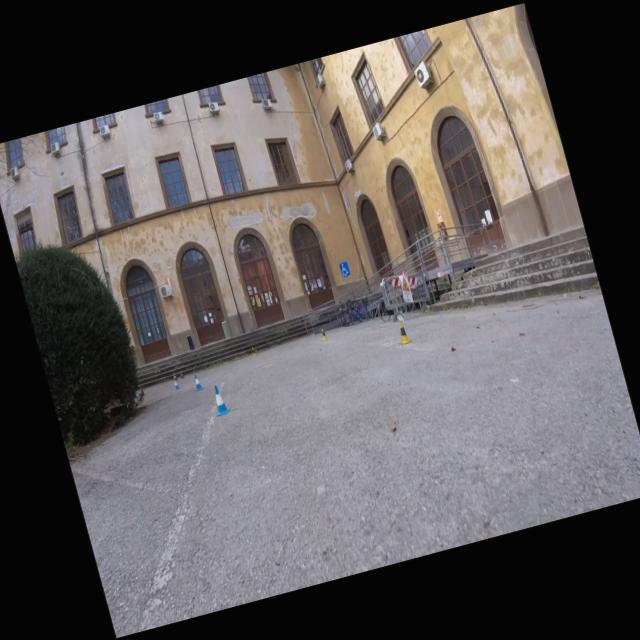blue_cone: (208, 383, 230, 417), (191, 372, 204, 392), (170, 376, 180, 390)
unknown_cone: (138, 385, 146, 396), (178, 369, 184, 379), (172, 370, 178, 380)
yellow_cone: (395, 320, 412, 346), (320, 327, 328, 341), (250, 346, 256, 356)
